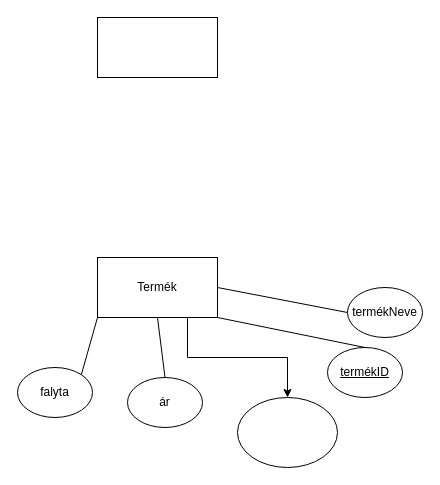
This 440x485 diagram has some shape labels left out. Each missing label, with the centre of its shape:
"raktáron van-e" belongs at [287,432].
"Vásárló" belongs at [157,47].
